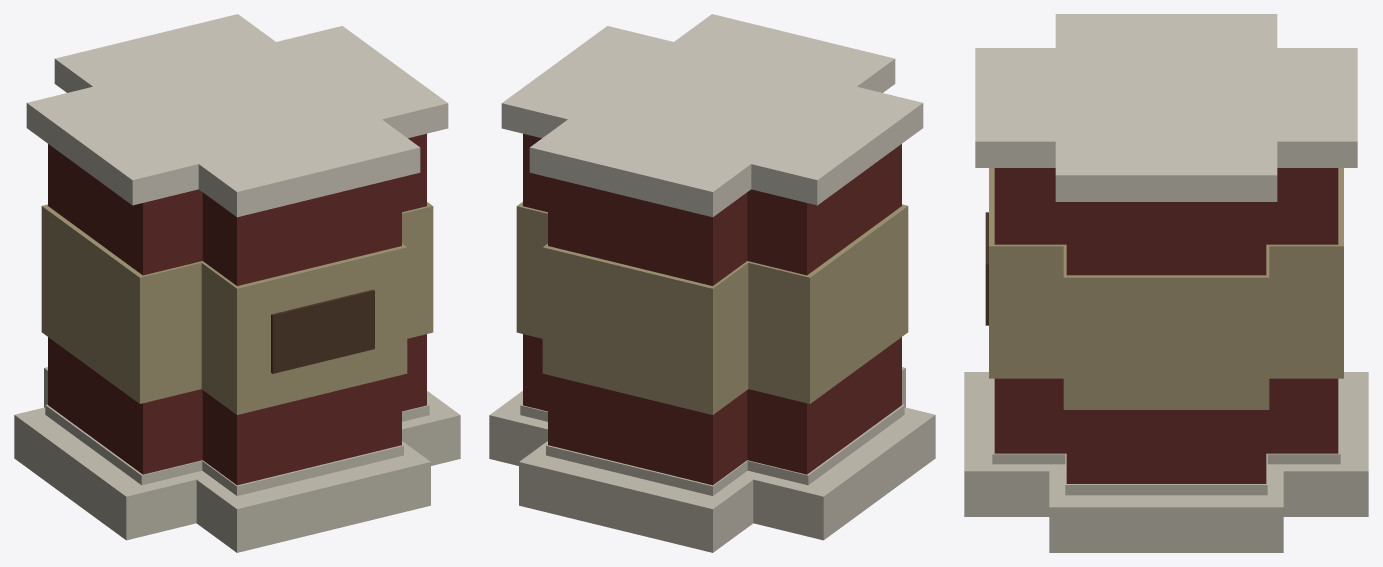
The model's file is CMU3DCoffeeGrounds.glb.
The picture shows the model from 3 angles, left to right: view 1: azimuth 30°, elevation 25°; view 2: azimuth 150°, elevation 25°; view 3: azimuth 270°, elevation 25°; orthographic projection. The views are drawn at different scales.
Parts seen in each view (by area): view 1: silver tin lid (×3), red coffee tin (×3), paper label band (×3), coffee tin rim (×5), label coffee mark; view 2: silver tin lid (×3), red coffee tin (×3), paper label band (×3), coffee tin rim (×5); view 3: silver tin lid (×3), red coffee tin (×2), paper label band (×2), coffee tin rim (×4).
Part boxes in pixels (box(x1,y1,x2,y2)): silver tin lid (×3): box(26, 14, 448, 217); red coffee tin (×3): box(48, 133, 426, 485); paper label band (×3): box(41, 202, 433, 414); coffee tin rim (×5): box(14, 367, 460, 552); label coffee mark: box(271, 289, 374, 373); silver tin lid (×3): box(501, 14, 923, 217); red coffee tin (×3): box(523, 133, 901, 485); paper label band (×3): box(516, 202, 908, 414); coffee tin rim (×5): box(489, 367, 935, 552); silver tin lid (×3): box(975, 14, 1357, 201); red coffee tin (×2): box(994, 168, 1338, 483); paper label band (×2): box(989, 168, 1343, 409); coffee tin rim (×4): box(964, 372, 1368, 552).
Size of the model in its own units: 0.36 by 0.366 by 0.36.
